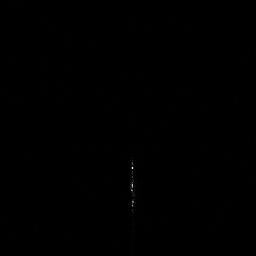ship: (129, 158, 136, 215)
